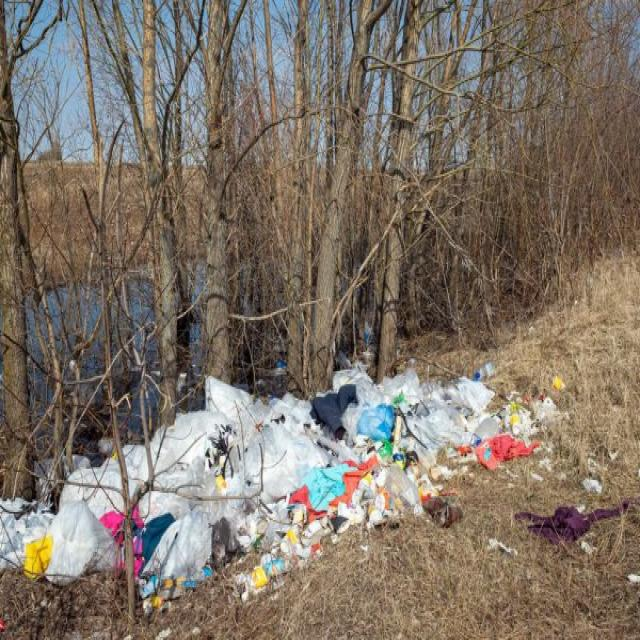garbage: (39, 342, 536, 598)
